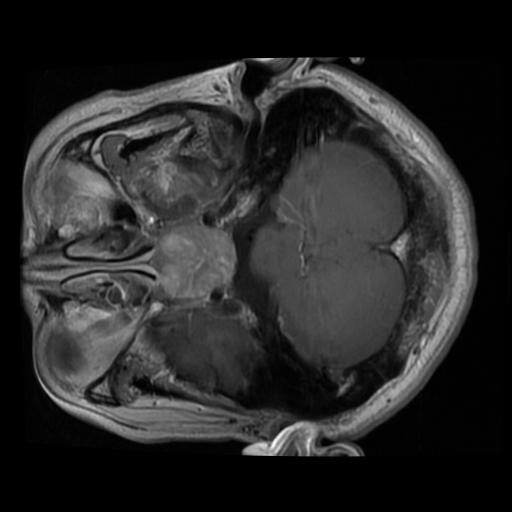pituitary tumour: (159, 223, 235, 298)
